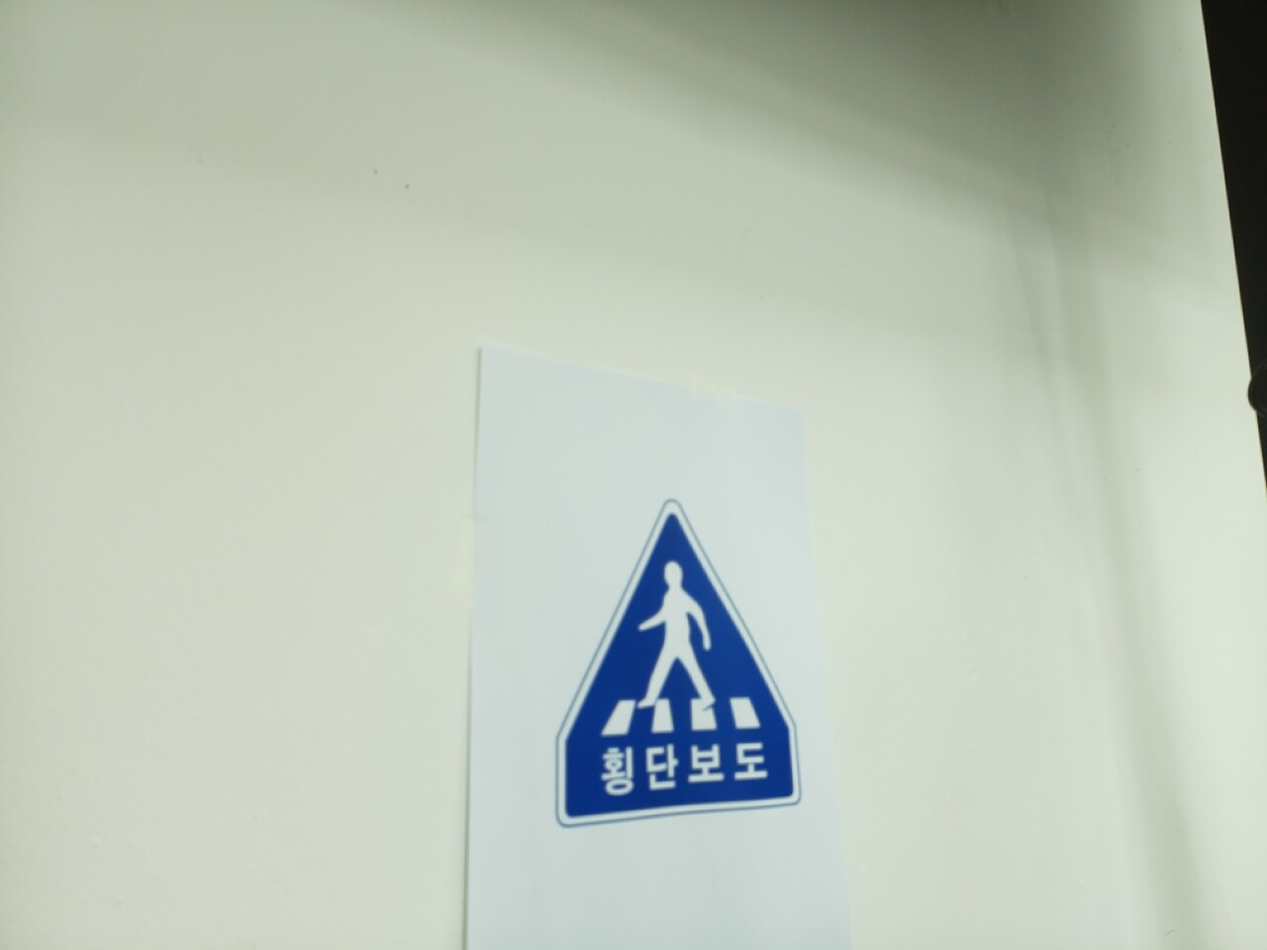crosswalk: (557, 504, 802, 827)
